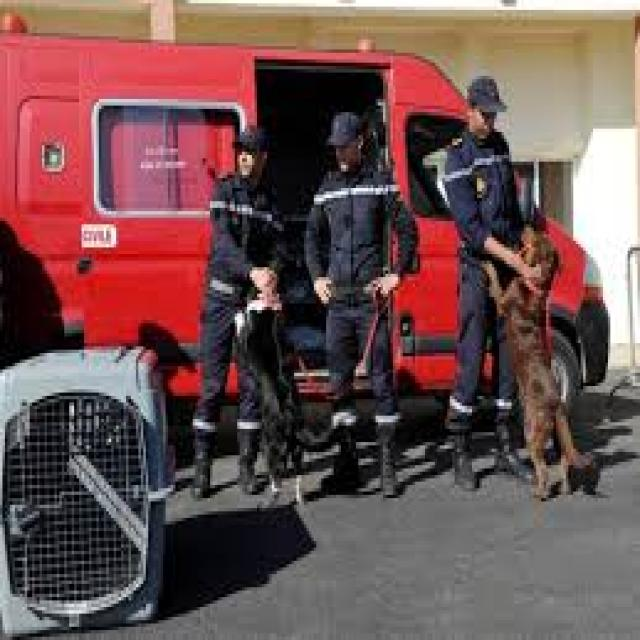ambulance: (3, 47, 601, 410)
